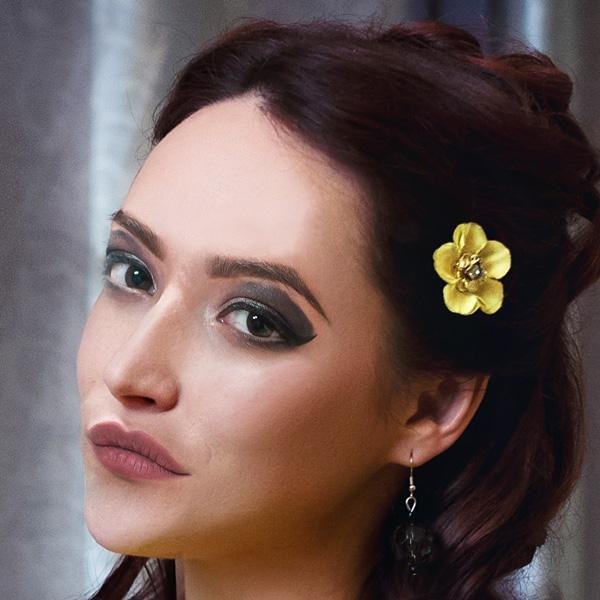Eyes: (204, 286, 301, 356), (97, 242, 161, 302)
